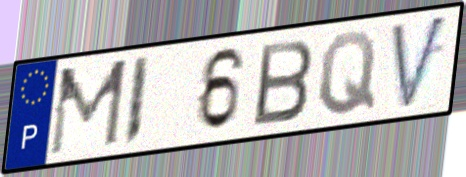6: (193, 45, 246, 135)
B: (251, 36, 317, 129)
I: (120, 53, 152, 149)
M: (45, 56, 131, 160)
Q: (316, 28, 379, 118)
V: (388, 10, 451, 114)
